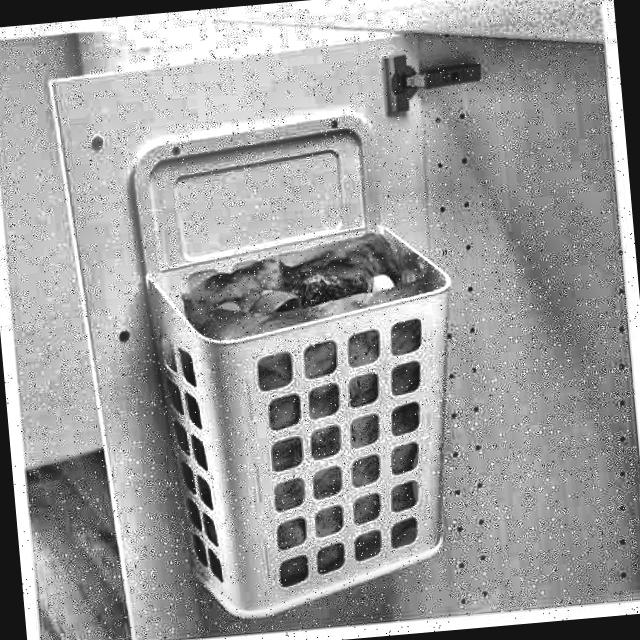Dustbin: (102, 98, 481, 630)
